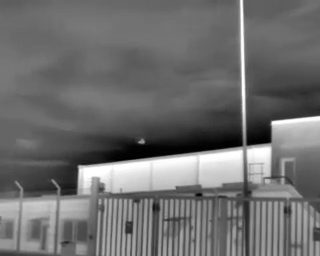HELICOPTER: (135, 134, 151, 148)
